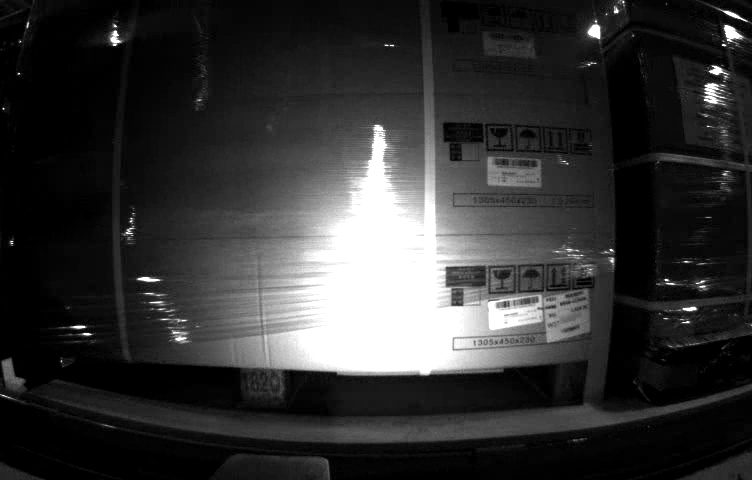True Barcode: (543, 289, 592, 340)
